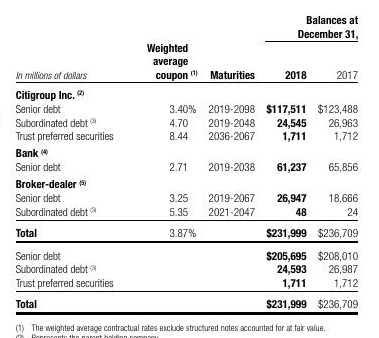table: (0, 0, 379, 338)
